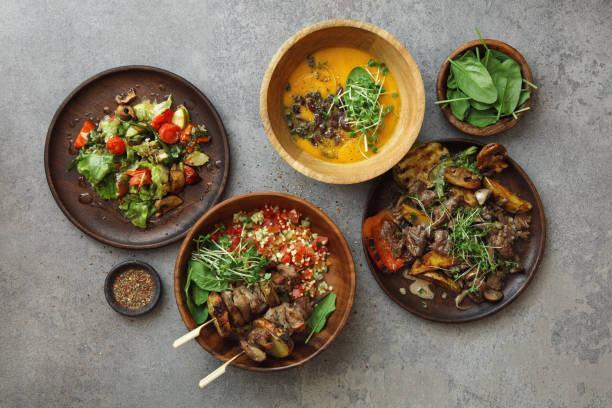Braised Crucian Carp: (43, 65, 226, 249), (362, 140, 545, 323), (173, 192, 350, 371), (259, 18, 422, 185)
